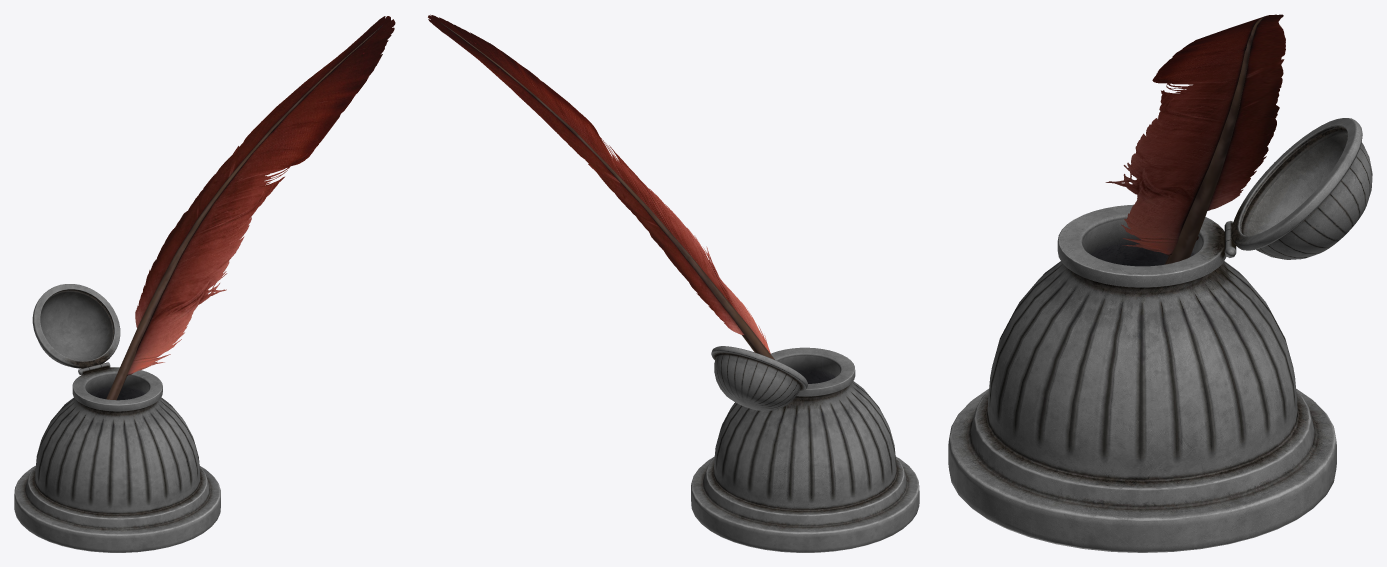
The model's file is feather_pen.fbx.
The picture shows the model from 3 angles, left to right: view 1: azimuth 30°, elevation 25°; view 2: azimuth 150°, elevation 25°; view 3: azimuth 270°, elevation 25°; orthographic projection. The views are drawn at different scales.
Parts seen in each view (by area): view 1: Inkwell_2, Feather; view 2: Inkwell_2, Feather; view 3: Inkwell_2, Feather.
Part boxes in pixels (left/top/right/bottom): Inkwell_2: left=14, top=284, right=220, bottom=552; Feather: left=106, top=16, right=395, bottom=400; Inkwell_2: left=691, top=346, right=919, bottom=552; Feather: left=428, top=14, right=774, bottom=359; Inkwell_2: left=948, top=118, right=1372, bottom=552; Feather: left=1105, top=14, right=1285, bottom=264.
Size of the model in its own units: 21.65 by 20.44 by 10.62.
